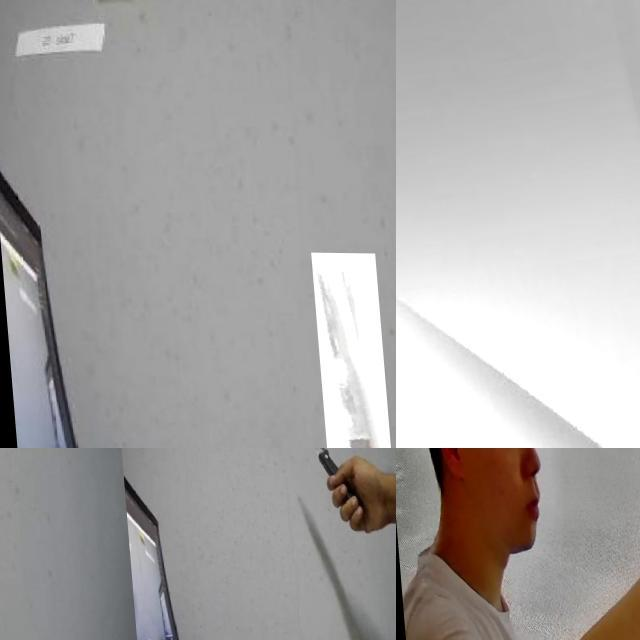-: (396, 0, 640, 448), (305, 252, 391, 448), (227, 448, 320, 524), (276, 448, 356, 512), (0, 448, 26, 640), (0, 448, 49, 531)
